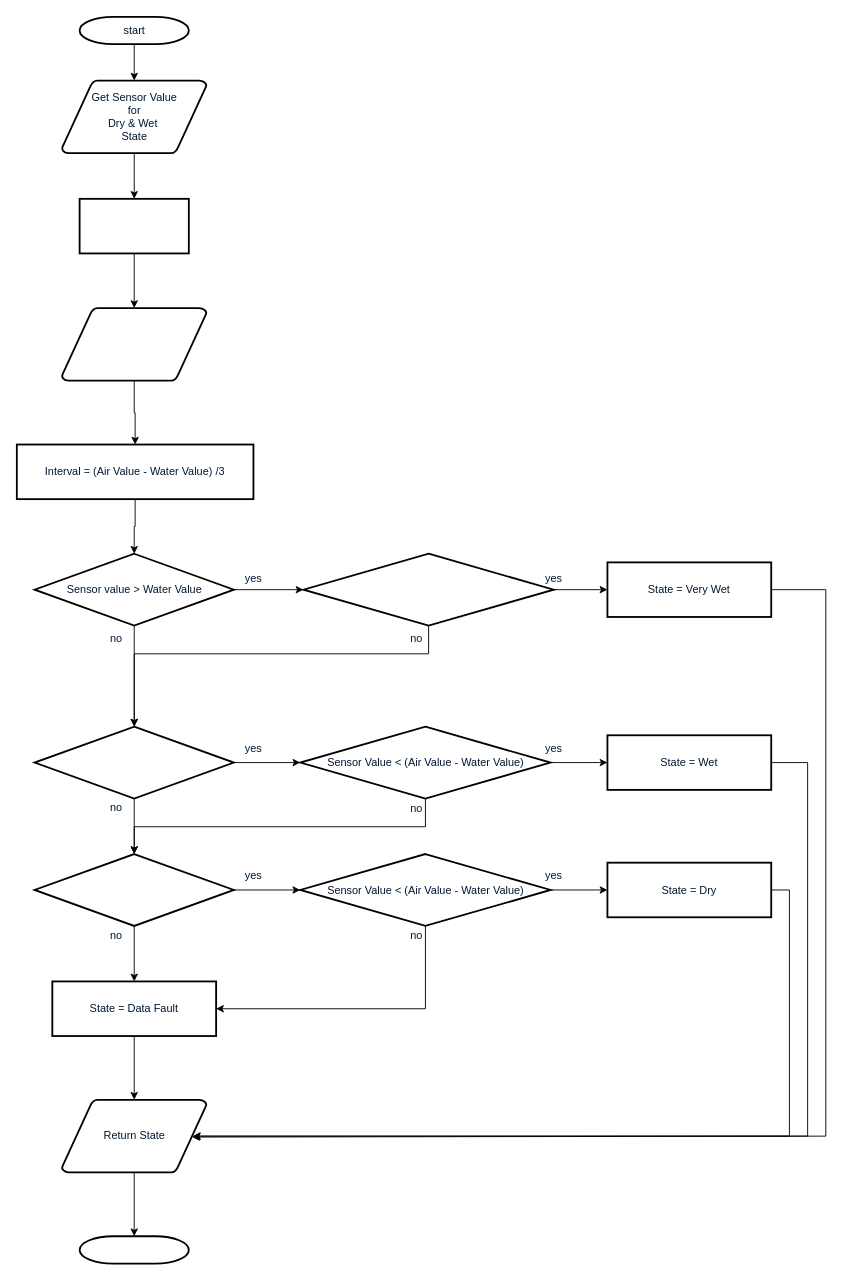
This 849x1279 diagram has some shape labels left out. The box of each missing label's shape, as (x1, y1, x2, y2) in pixels:
end: (78, 1235, 189, 1264)
Read sensor data for new environment: (61, 307, 207, 381)
Sensor Value < (Air Value -Interval): (33, 853, 234, 926)
Sensor Value < (Water Value + Interval): (302, 552, 554, 626)
Sensor Value > (Water Value + Interval): (33, 725, 234, 799)
Set The value for the environment: (78, 197, 189, 254)
